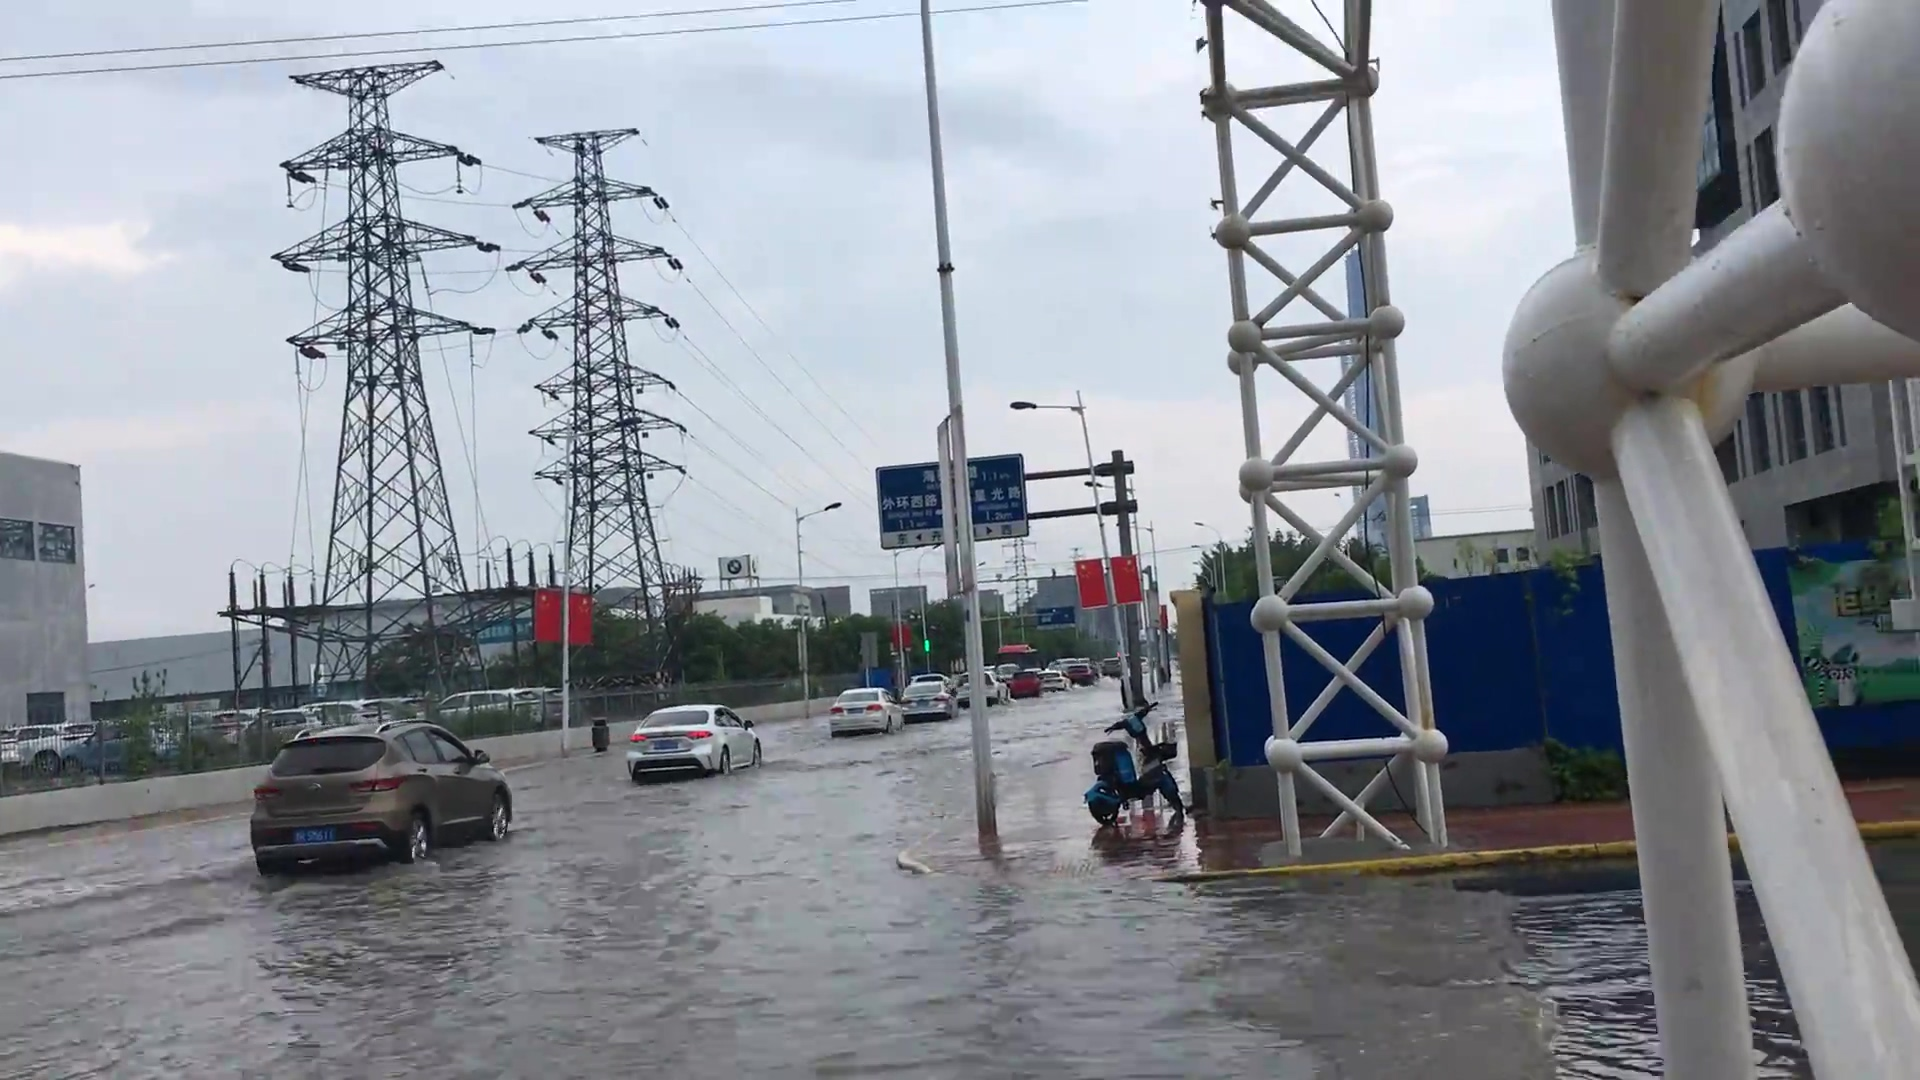puddle: (1, 793, 1687, 1080)
